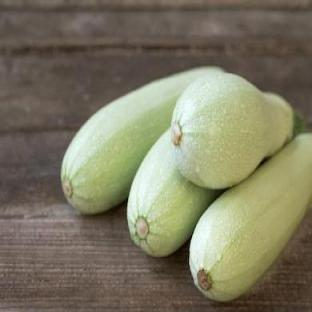Zucchini: (61, 68, 219, 213), (190, 135, 311, 301), (172, 72, 293, 188), (128, 131, 219, 256)
